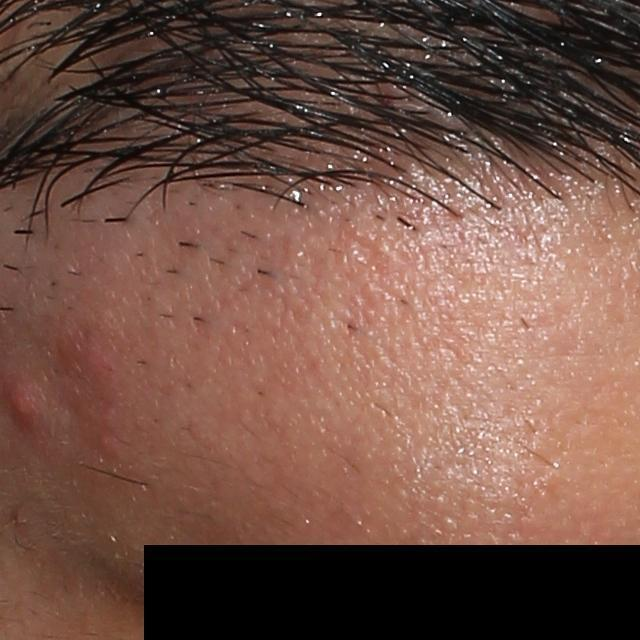papule: (3, 386, 43, 430)
